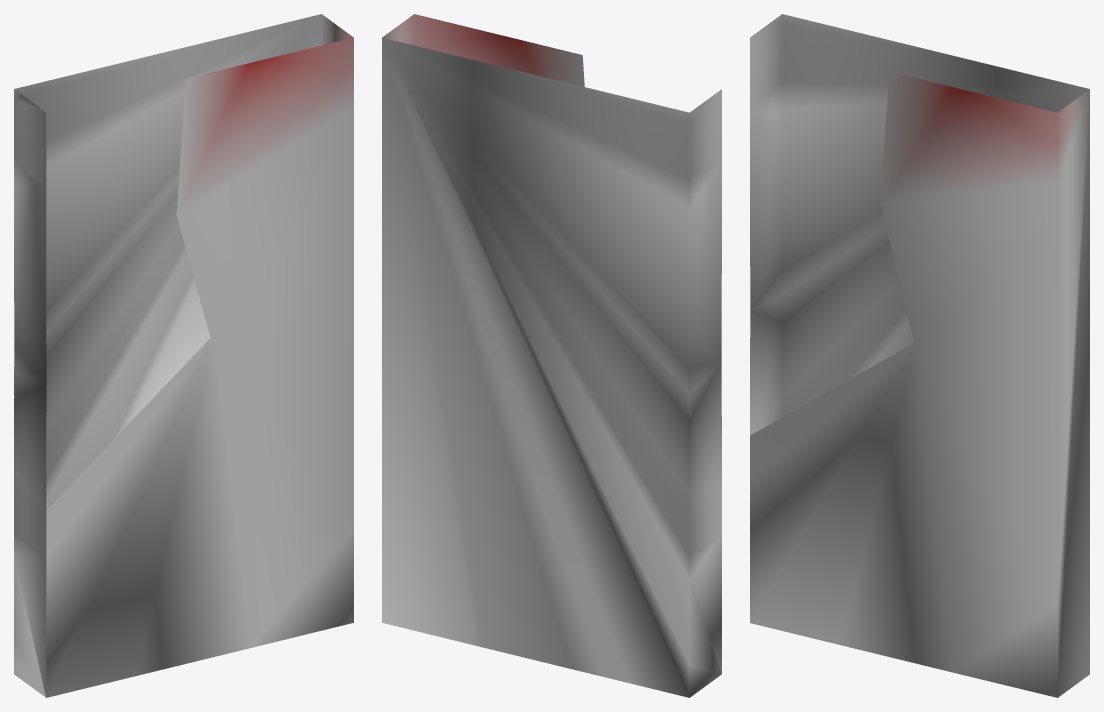
The model's file is SM_FA_Factory_W110_H200.fbx.
The picture shows the model from 3 angles, left to right: view 1: azimuth 30°, elevation 25°; view 2: azimuth 150°, elevation 25°; view 3: azimuth 330°, elevation 25°; orthographic projection.
Parts seen in each view (by area): view 1: SM_FA_Factory_W110_H200; view 2: SM_FA_Factory_W110_H200; view 3: SM_FA_Factory_W110_H200.
Boxes of the visible parts, x1=… form: SM_FA_Factory_W110_H200: x1=14, y1=14, x2=353, y2=697; SM_FA_Factory_W110_H200: x1=382, y1=14, x2=721, y2=697; SM_FA_Factory_W110_H200: x1=750, y1=14, x2=1089, y2=697.
Size of the model in its own units: 110 by 20 by 200.
